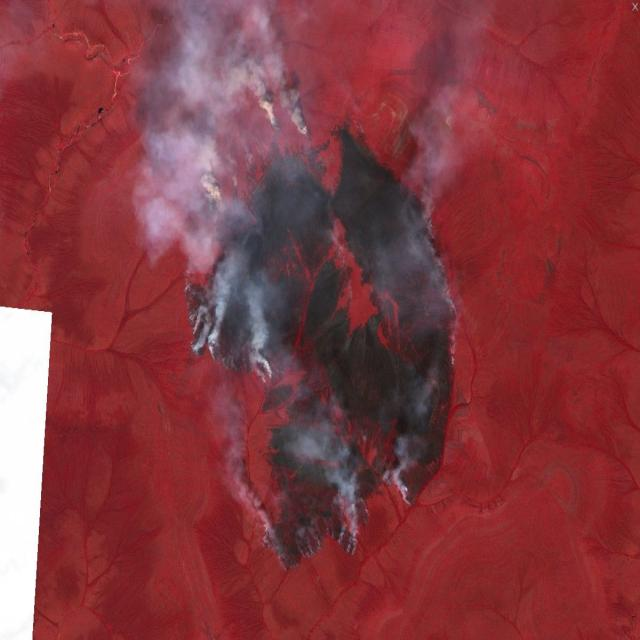fire: (178, 100, 462, 578)
